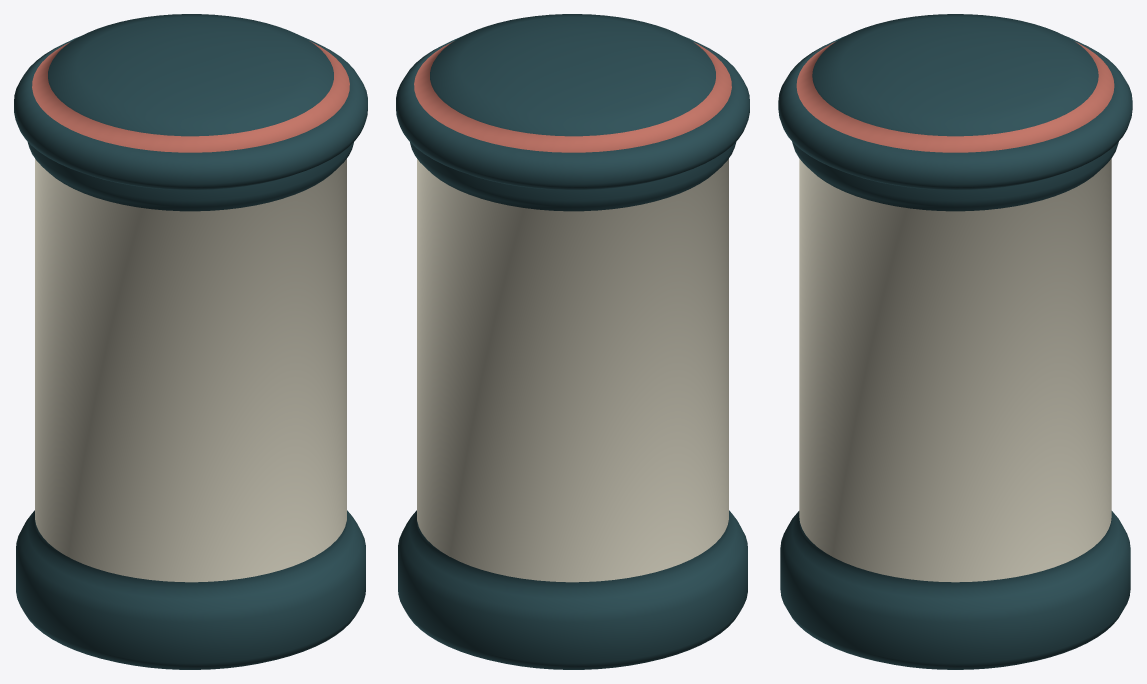
File: d06_poster_drum_02.glb
The picture shows the model from 3 angles, left to right: view 1: azimuth 30°, elevation 25°; view 2: azimuth 150°, elevation 25°; view 3: azimuth 270°, elevation 25°; orthographic projection.
Visible parts, largest first — view 1: D06PosterDrum02_Body, D06PosterDrum02_Cap; view 2: D06PosterDrum02_Body, D06PosterDrum02_Cap; view 3: D06PosterDrum02_Body, D06PosterDrum02_Cap.
Boxes of the visible parts, x1,y1,x2,y2 form: D06PosterDrum02_Body: [16, 141, 365, 669]; D06PosterDrum02_Cap: [14, 14, 367, 190]; D06PosterDrum02_Body: [398, 141, 747, 669]; D06PosterDrum02_Cap: [396, 14, 749, 190]; D06PosterDrum02_Body: [780, 142, 1130, 669]; D06PosterDrum02_Cap: [778, 14, 1132, 190].
Size of the model in its own units: 0.9 by 1.53 by 0.9.
